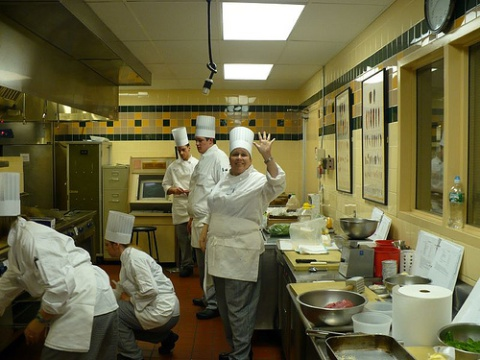hand: (252, 129, 276, 156)
